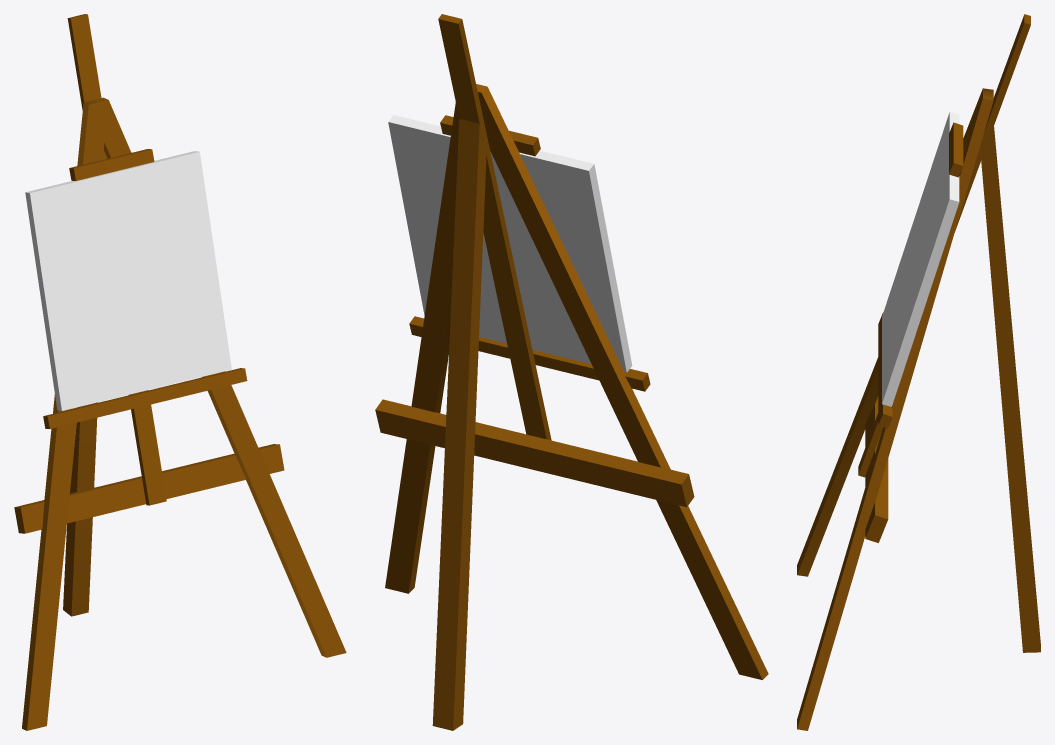
The model's file is stm_item_Easel.fbx.
3 views of the same model, side by side, from view 1: azimuth 30°, elevation 25°; view 2: azimuth 150°, elevation 25°; view 3: azimuth 270°, elevation 25° (orthographic). The views are drawn at different scales.
Parts seen in each view (by area): view 1: Canvas, Cube, Cube_1, Cube_2, Cube_4, Cube_3, Cube_5, Cube_6; view 2: Canvas, Cube_4, Cube, Cube_1, Cube_2, Cube_3, Cube_5, Cube_6; view 3: Cube_4, Canvas, Cube_1, Cube, Cube_3, Cube_2, Cube_6, Cube_5.
Boxes of the visible parts, x1,y1,x2,y2 form: Canvas: (25, 151, 231, 410); Cube: (22, 97, 108, 730); Cube_1: (104, 100, 346, 657); Cube_2: (14, 444, 284, 533); Cube_4: (63, 402, 97, 616); Cube_3: (67, 14, 166, 505); Cube_5: (43, 368, 247, 429); Cube_6: (69, 149, 154, 180); Canvas: (388, 115, 632, 372); Cube_4: (432, 119, 486, 730); Cube: (476, 84, 768, 679); Cube_1: (385, 102, 459, 593); Cube_2: (375, 399, 694, 507); Cube_3: (438, 14, 551, 440); Cube_5: (409, 316, 650, 391); Cube_6: (440, 115, 540, 156); Cube_4: (981, 126, 1040, 652); Canvas: (882, 112, 959, 406); Cube_1: (797, 98, 993, 730); Cube: (797, 88, 993, 576); Cube_3: (858, 14, 1030, 477); Cube_2: (865, 396, 888, 542); Cube_6: (949, 122, 963, 177); Cube_5: (878, 312, 892, 428).
Size of the model in its own units: 320 by 572 by 200.
